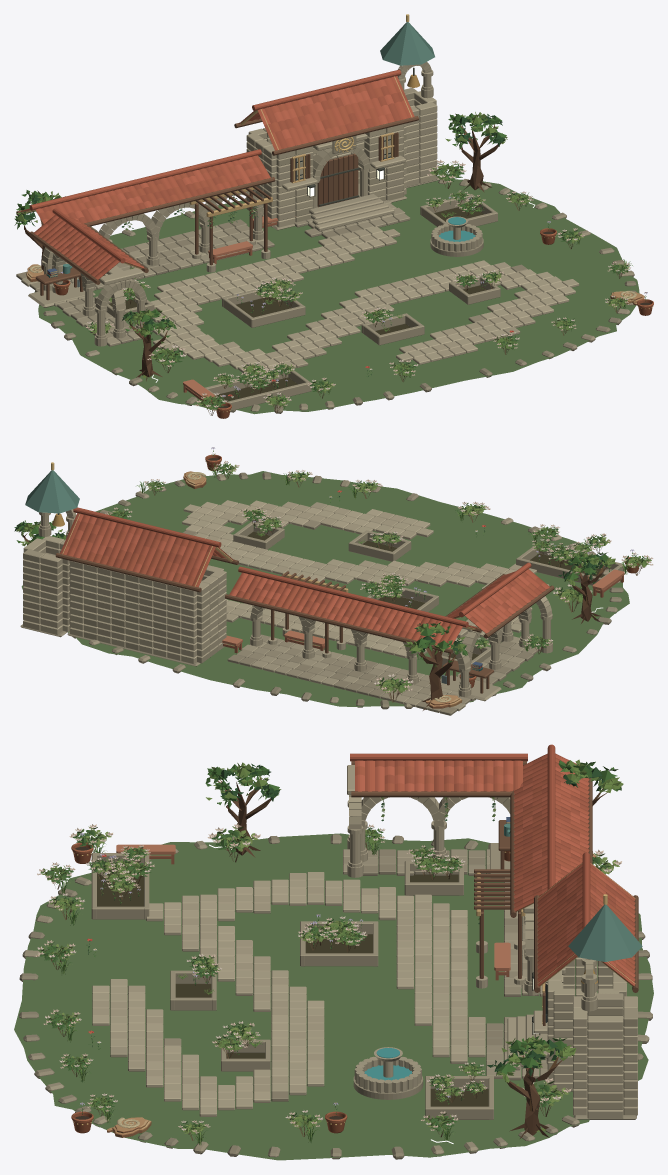
File: viridis.glb
3 renders of one model, top to bottom at view 1: azimuth 30°, elevation 25°; view 2: azimuth 150°, elevation 25°; view 3: azimuth 270°, elevation 25°, orthographic. The views are drawn at different scales.
Parts seen in each view (by area): view 1: merged-masonry-botany, merged-timber-ceramic; view 2: merged-masonry-botany, merged-timber-ceramic; view 3: merged-masonry-botany, merged-timber-ceramic, merged-opaque-water.
Part boxes in pixels (box(x1,y1,x2,y2)): merged-masonry-botany: box(14, 62, 653, 418); merged-timber-ceramic: box(16, 14, 434, 300); merged-masonry-botany: box(14, 447, 653, 715); merged-timber-ceramic: box(25, 462, 554, 693); merged-masonry-botany: box(14, 759, 653, 1160); merged-timber-ceramic: box(350, 744, 642, 1035); merged-opaque-water: box(364, 1048, 411, 1080).
Bounding box in the file's own units: 24.42 × 7.48 × 20.2.
